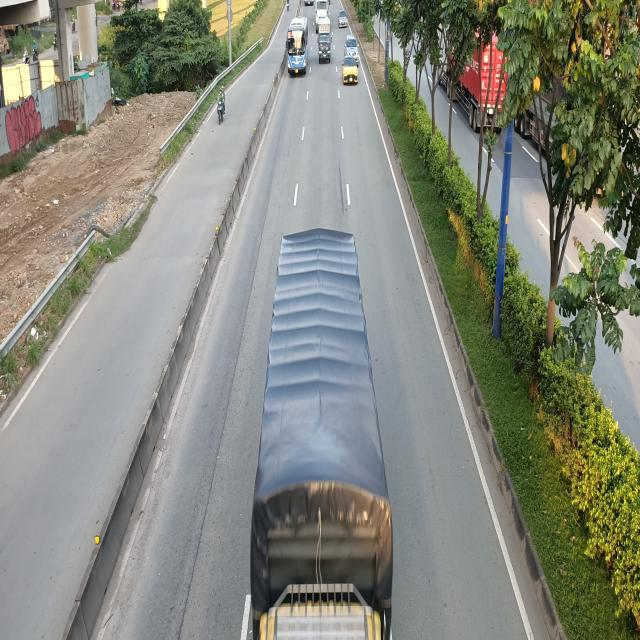car: (342, 56, 359, 84)
coach: (285, 17, 310, 75)
truck: (235, 224, 395, 639), (316, 16, 332, 64)
